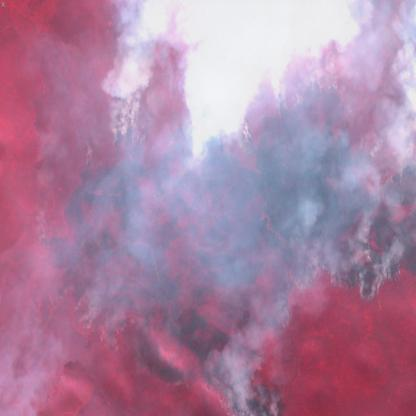fire: (289, 245, 416, 303), (269, 68, 346, 122), (180, 122, 264, 168), (343, 136, 416, 185), (70, 301, 134, 351), (217, 382, 286, 416)
